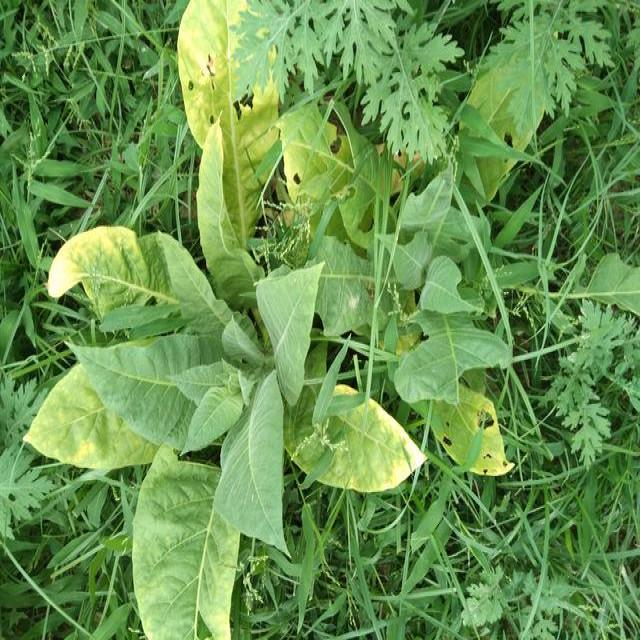crop: (31, 132, 400, 640)
